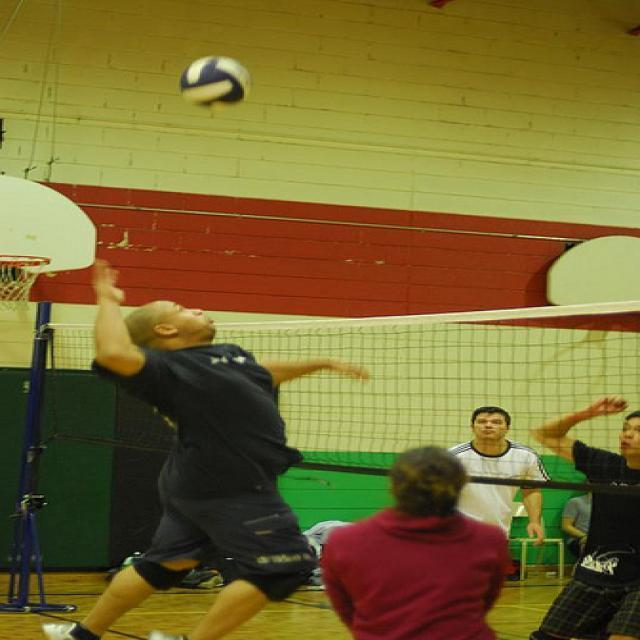volleyball: (178, 55, 250, 112)
